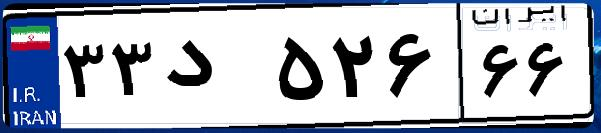2: (330, 28, 385, 110)
3: (57, 26, 110, 100), (110, 28, 158, 98)
5: (270, 28, 330, 110)
6: (385, 28, 445, 110), (475, 38, 525, 113), (525, 38, 570, 115)
د: (158, 20, 270, 120)
